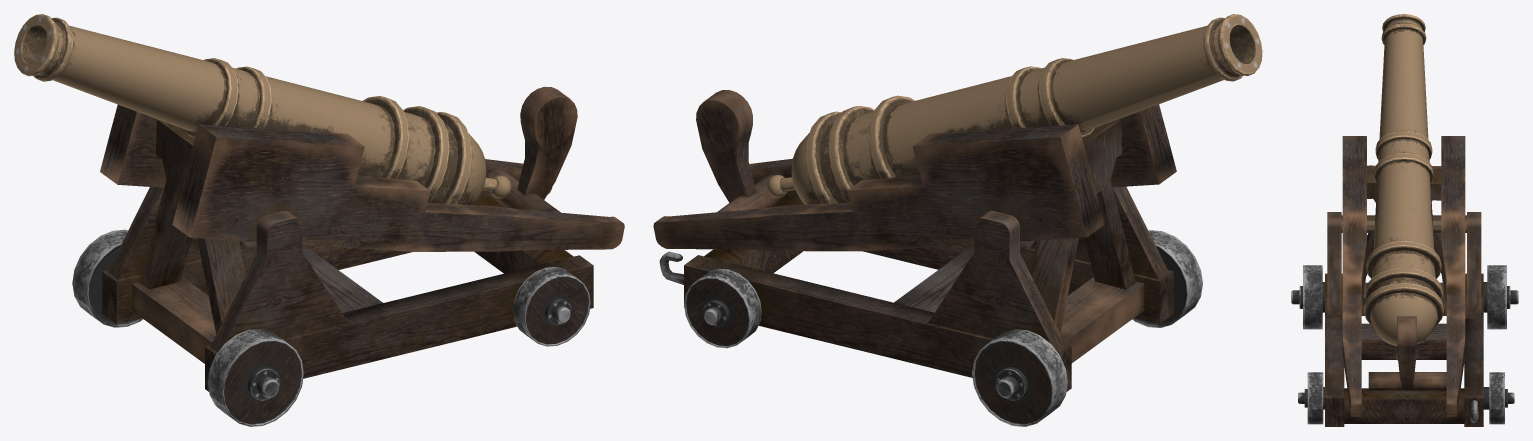
The model's file is canon.fbx.
3 renders of one model, left to right at view 1: azimuth 30°, elevation 25°; view 2: azimuth 150°, elevation 25°; view 3: azimuth 270°, elevation 25°, orthographic. The views are drawn at different scales.
Visible parts, largest first — view 1: pCube12, pCylinder7, pCube11, pCube10, pCube5, pCylinder8, pCylinder5, pCylinder9, pCube2, pCube7, pCylinder1; view 2: pCube2, pCylinder7, pCube5, pCube10, pCube11, pCylinder1, pCylinder5, pCylinder2, pCube12, pCube7, pCylinder8; view 3: pCylinder7, pCube11, pCube5, pCube2, pCube12, pCylinder5, pCylinder1, pCylinder8, pCylinder2, pCube10, pCylinder9.
Boxes of the visible parts, x1,y1,x2,y2 form: pCube12: (172,124,624,251); pCylinder7: (14,14,511,204); pCube11: (205,211,593,391); pCube10: (139,119,245,333); pCube5: (102,187,505,324); pCylinder8: (207,328,303,426); pCylinder5: (485,86,577,212); pCylinder9: (512,267,590,346); pCube2: (100,104,552,196); pCube7: (132,277,216,363); pCylinder1: (72,229,143,327); pCube2: (653,124,1104,251); pCylinder7: (767,14,1262,204); pCube5: (684,211,1071,391); pCube10: (1030,119,1135,333); pCube11: (772,186,1173,323); pCylinder1: (972,329,1067,426); pCylinder5: (696,90,788,212); pCylinder2: (684,268,761,348); pCube12: (749,104,1176,195); pCube7: (1060,277,1144,363); pCylinder8: (1132,230,1202,327); pCylinder7: (1364,14,1443,360); pCube11: (1325,212,1407,426); pCube5: (1407,212,1483,426); pCube2: (1441,136,1465,416); pCube12: (1342,136,1366,416); pCylinder5: (1368,316,1446,391); pCylinder1: (1483,265,1518,329); pCylinder8: (1291,265,1324,329); pCylinder2: (1483,372,1514,424); pCube10: (1366,165,1441,276); pCylinder9: (1298,372,1324,424).
Size of the model in its own units: 466 by 308 by 239.
Materials: 1 (1 with a texture image).
